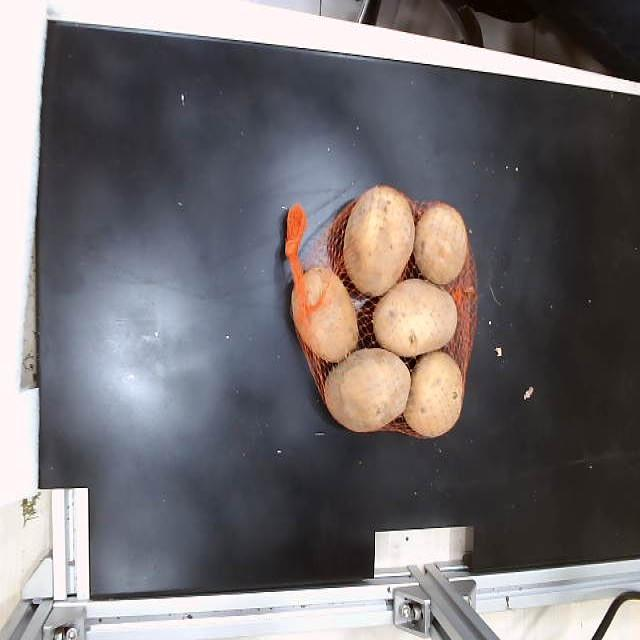potato: (344, 185, 415, 296), (324, 348, 411, 432), (372, 278, 458, 357), (292, 267, 358, 362), (404, 350, 464, 437), (414, 203, 468, 284)
